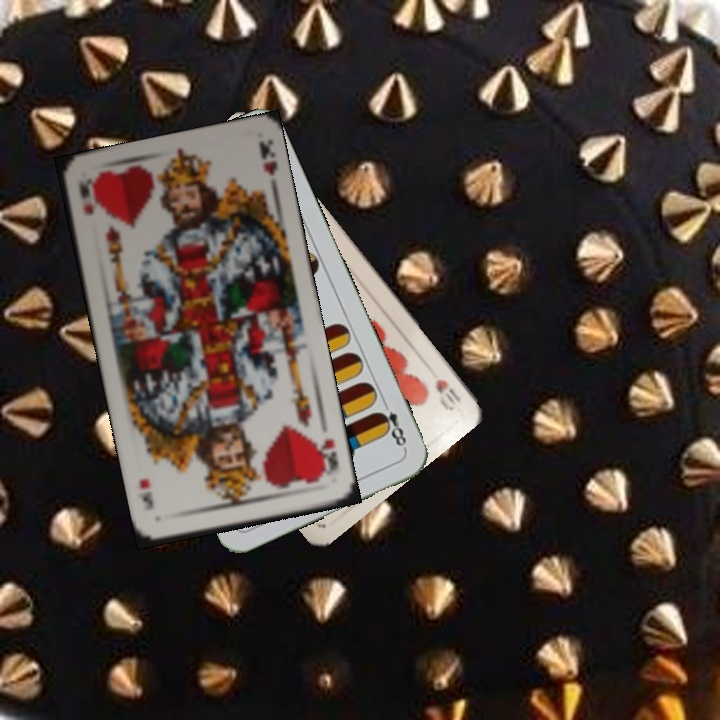E8: (373, 396, 409, 453)
H10: (431, 374, 464, 413)
HK: (312, 434, 342, 480), (75, 175, 97, 218)
